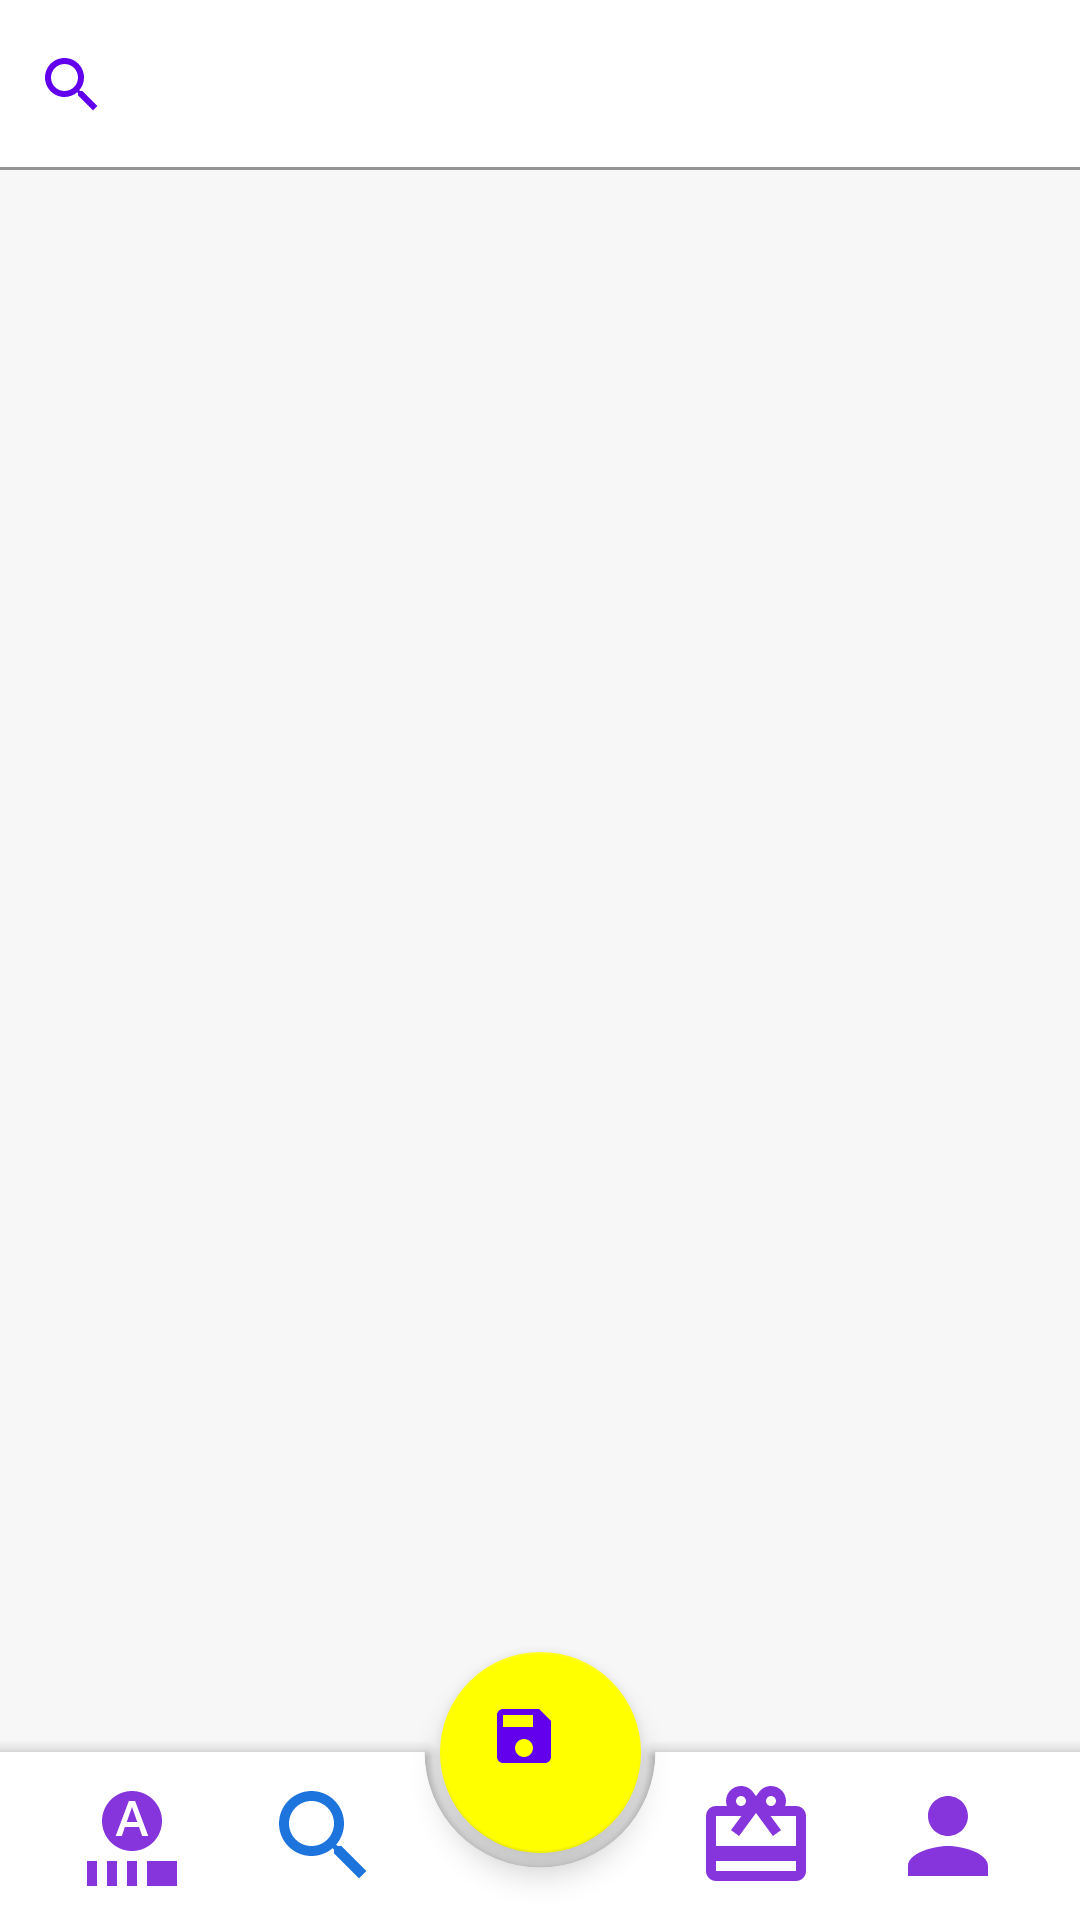

Locate icon controls on the screen. Image size 1080px×1920px, boxes as (x1, y1, x2, y2).
autofps select: (87, 1791, 177, 1886)
card giftcard: (706, 1786, 806, 1881)
person: (908, 1796, 988, 1876)
save: (440, 1652, 641, 1853)
search: (279, 1791, 366, 1878)
